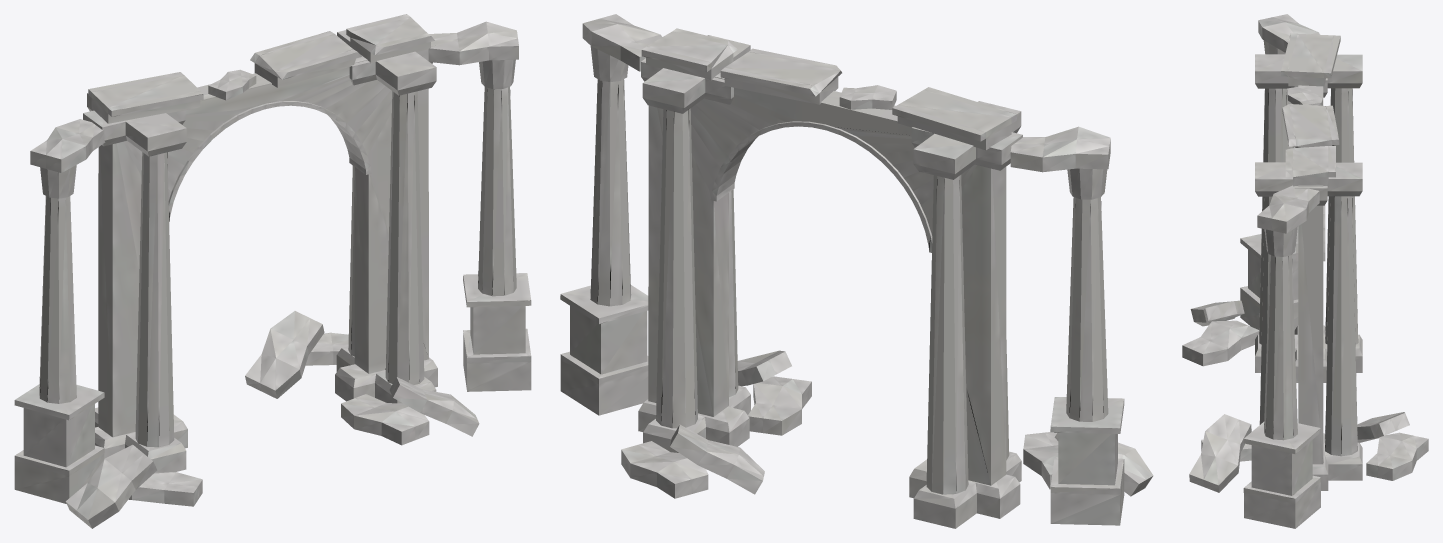
Rendered from fantasy-arch.glb.
3 renders of one model, left to right at view 1: azimuth 30°, elevation 25°; view 2: azimuth 150°, elevation 25°; view 3: azimuth 270°, elevation 25°, orthographic. The views are drawn at different scales.
Parts seen in each view (by area): view 1: low; view 2: low; view 3: low.
Part boxes in pixels (box(x1,y1,x2,y2)): low: box(14, 14, 531, 528); low: box(560, 14, 1153, 528); low: box(1182, 14, 1428, 528).
Size of the model in its own units: 4.43 by 3 by 2.08.
1 material, 1 textured.
